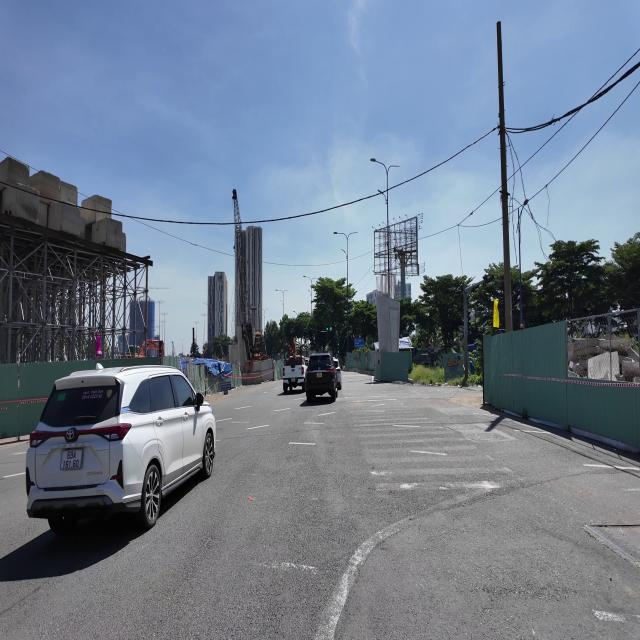car: (26, 366, 215, 532), (306, 353, 337, 402), (283, 355, 306, 393), (333, 358, 341, 390)
